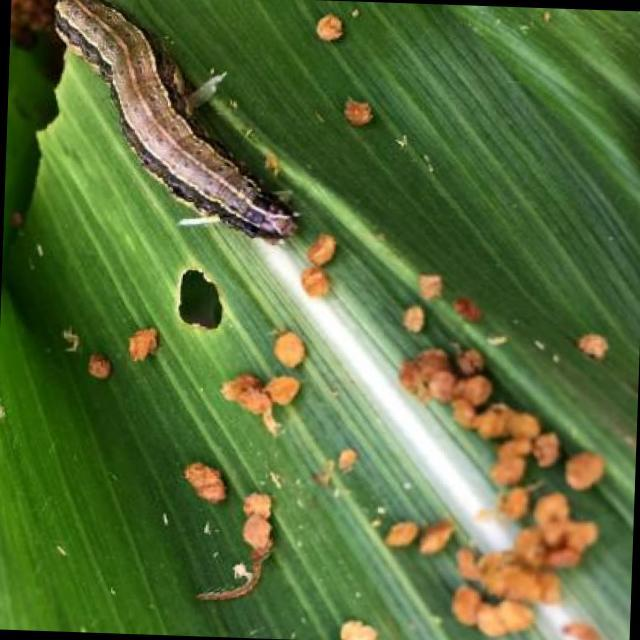Plaga: (32, 1, 314, 258)
